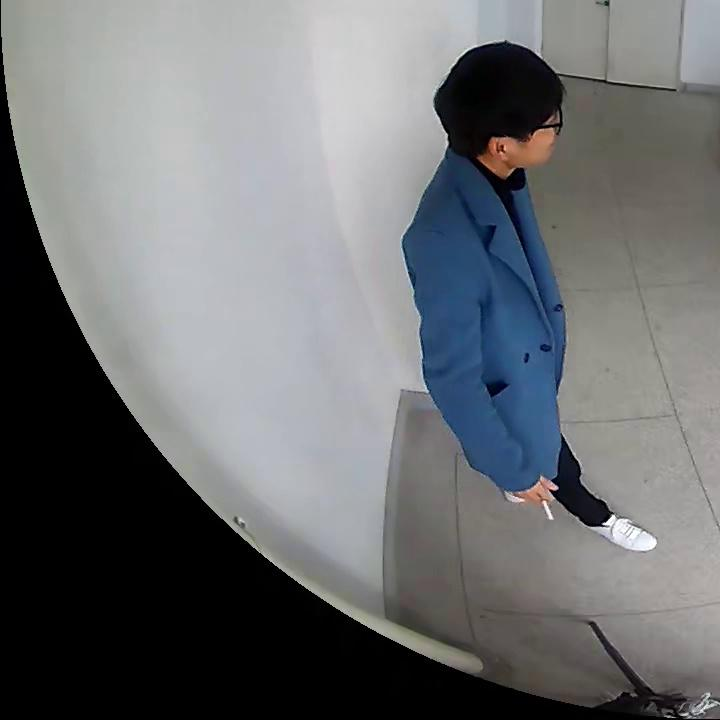handsmoke: (534, 478, 556, 524)
mouthwithoutsmoke: (434, 42, 564, 166)
